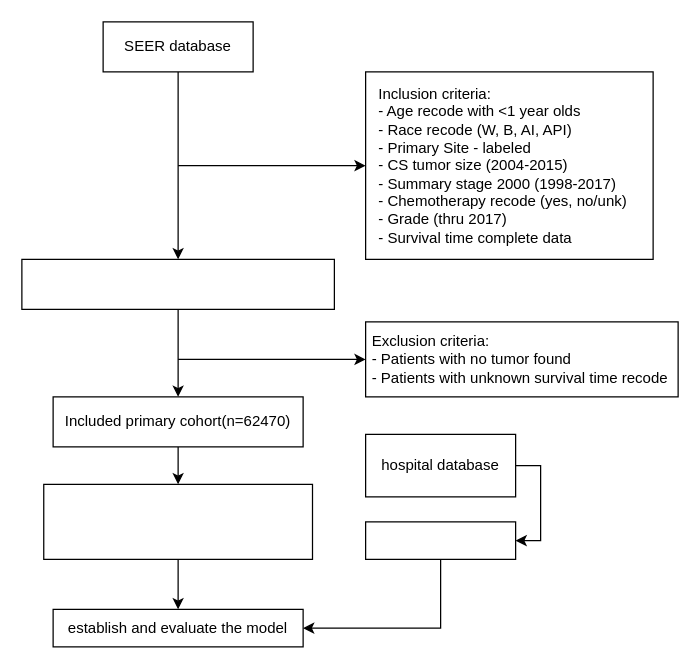
Some shapes in this 700 by 669 pixel diagram are drawn without their labels. The shapes that lost their labels are listed below. From the top down, each one's box as (x1, y1, x2, y2) in pixels, then its label:
(21, 258, 334, 309): US patients under above criteria(n=101046 )
(42, 483, 312, 559): Training cohort(n=49976,80%) Self Validation cohort(n=12494,20%)
(364, 521, 516, 559): Test cohort(n=120)
